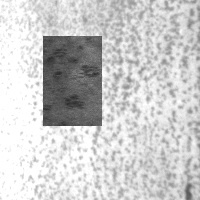pitted_surface: (17, 1, 199, 192)
rolled-in_scale: (43, 36, 102, 126)
